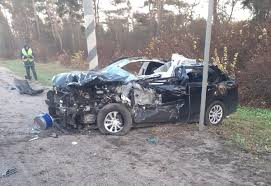car: (42, 51, 242, 135)
